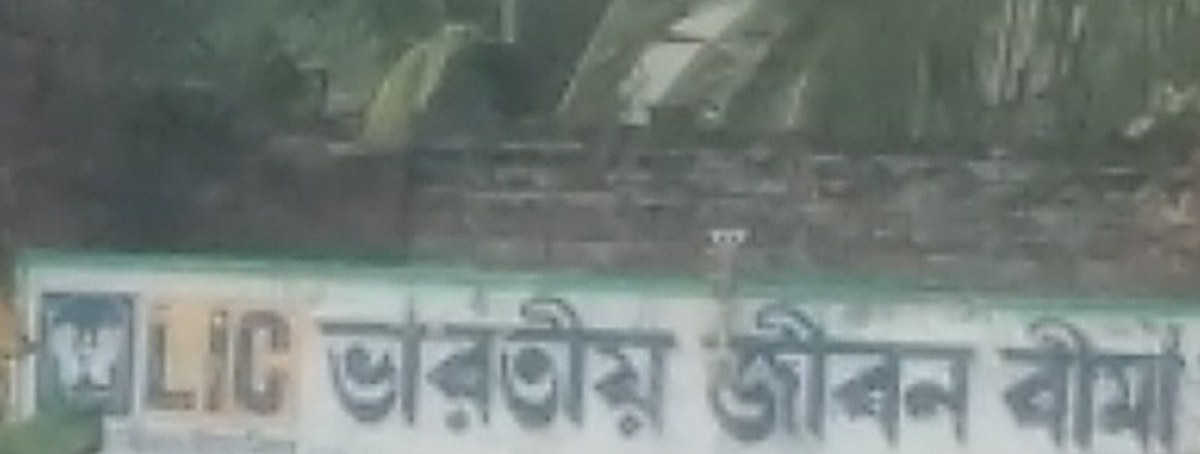text: (321, 287, 336, 443), (337, 287, 352, 443), (353, 287, 368, 443), (369, 287, 384, 443), (385, 287, 400, 443), (401, 287, 416, 443), (417, 287, 432, 443), (433, 287, 448, 443), (449, 287, 464, 443), (465, 287, 480, 443), (481, 287, 496, 443), (497, 287, 512, 443), (513, 287, 528, 443), (529, 287, 544, 443), (545, 287, 560, 443), (561, 287, 576, 443), (577, 287, 592, 443), (593, 287, 608, 443), (609, 287, 624, 443), (625, 287, 640, 443), (641, 287, 656, 443), (657, 287, 672, 443), (705, 299, 720, 451), (721, 299, 736, 451), (737, 299, 752, 451), (753, 299, 768, 451), (769, 299, 784, 451), (785, 299, 800, 451), (801, 299, 816, 451), (817, 299, 832, 451), (833, 299, 848, 451), (849, 299, 864, 451), (865, 299, 880, 451), (881, 299, 896, 451), (897, 299, 912, 451), (913, 299, 928, 451), (929, 299, 944, 451), (945, 299, 960, 451), (961, 299, 976, 451), (993, 311, 1008, 454), (1009, 311, 1024, 454), (1025, 311, 1040, 454), (1041, 311, 1056, 454), (1057, 311, 1072, 454), (1073, 311, 1088, 454), (1089, 311, 1104, 454), (1105, 311, 1120, 454), (1121, 311, 1136, 454), (1137, 311, 1152, 454), (1153, 311, 1168, 454), (1169, 311, 1184, 454), (977, 299, 991, 451), (145, 301, 160, 416), (161, 301, 176, 416), (177, 301, 192, 416), (193, 301, 208, 416), (209, 301, 224, 416), (225, 301, 240, 416), (241, 301, 256, 416), (257, 301, 272, 416), (273, 301, 288, 416), (673, 287, 684, 443), (695, 299, 704, 451), (313, 287, 320, 443), (1185, 311, 1190, 454), (289, 301, 295, 416), (65, 384, 80, 407), (81, 384, 96, 407), (97, 384, 112, 407), (113, 384, 127, 407), (990, 311, 992, 454), (58, 384, 64, 407)
